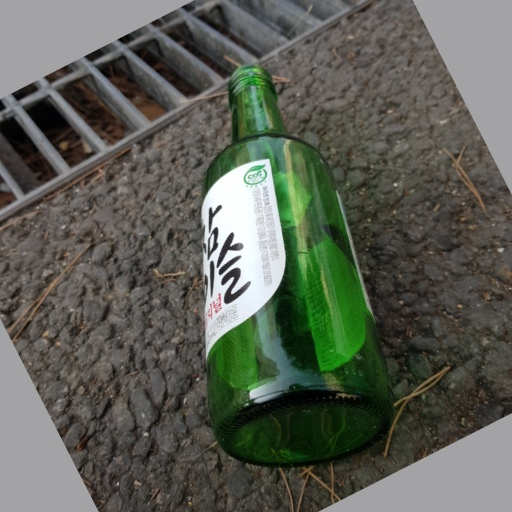Glass_0: (196, 66, 390, 464)
